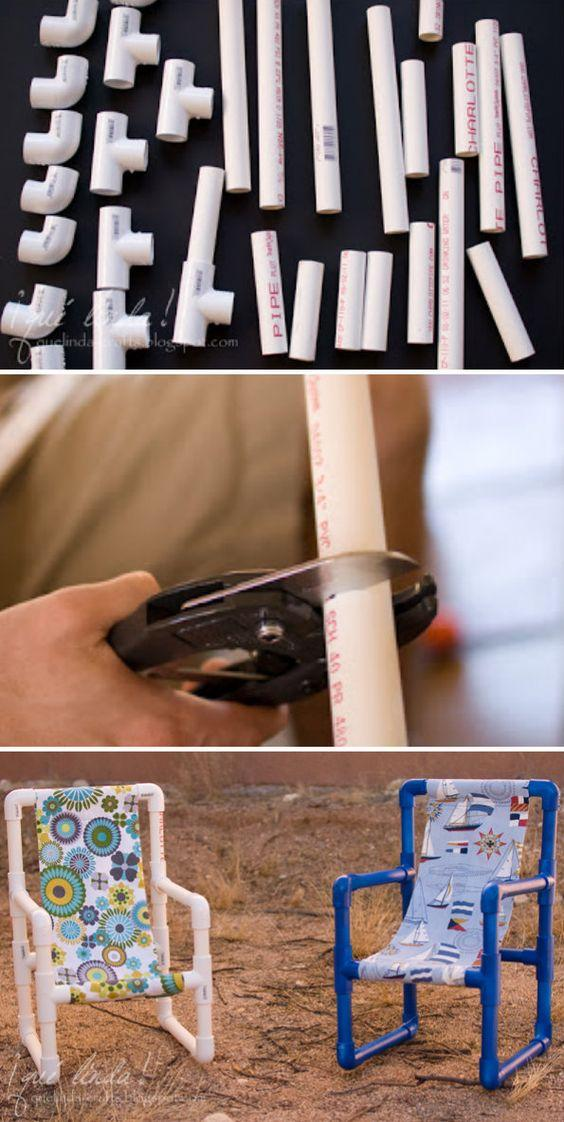PVC: (304, 381, 408, 748), (214, 0, 346, 215), (458, 14, 546, 259), (371, 14, 435, 224), (111, 8, 193, 128), (98, 208, 155, 373), (174, 181, 228, 344), (474, 888, 510, 1093), (144, 784, 171, 1033), (184, 884, 219, 1075), (11, 794, 33, 1064), (328, 884, 359, 1073), (28, 914, 61, 1091), (524, 871, 557, 1046), (91, 111, 153, 199), (251, 241, 297, 355), (338, 254, 397, 339), (24, 178, 75, 270), (18, 121, 86, 175), (11, 288, 66, 344), (28, 4, 100, 46), (391, 774, 419, 880), (31, 61, 86, 112), (528, 784, 557, 862)
